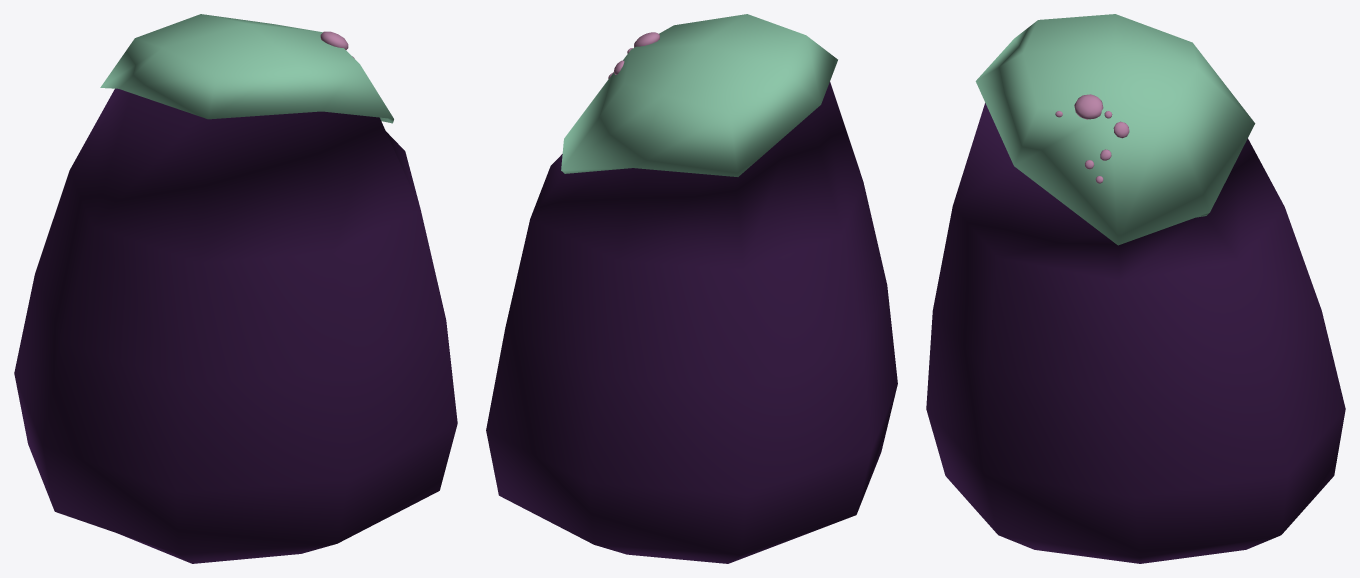
The model's file is Rock.glb.
3 renders of one model, left to right at view 1: azimuth 30°, elevation 25°; view 2: azimuth 150°, elevation 25°; view 3: azimuth 270°, elevation 25°, orthographic. The views are drawn at different scales.
Parts seen in each view (by area): view 1: Cube; view 2: Cube; view 3: Cube, Icosphere.
Part boxes in pixels (x1=…): Cube: x1=14, y1=14, x2=457, y2=563; Cube: x1=486, y1=14, x2=897, y2=563; Cube: x1=926, y1=14, x2=1345, y2=563; Icosphere: x1=1055, y1=94, x2=1129, y2=183.
Bounding box in the file's own units: 2.33 × 2.9 × 2.33.
